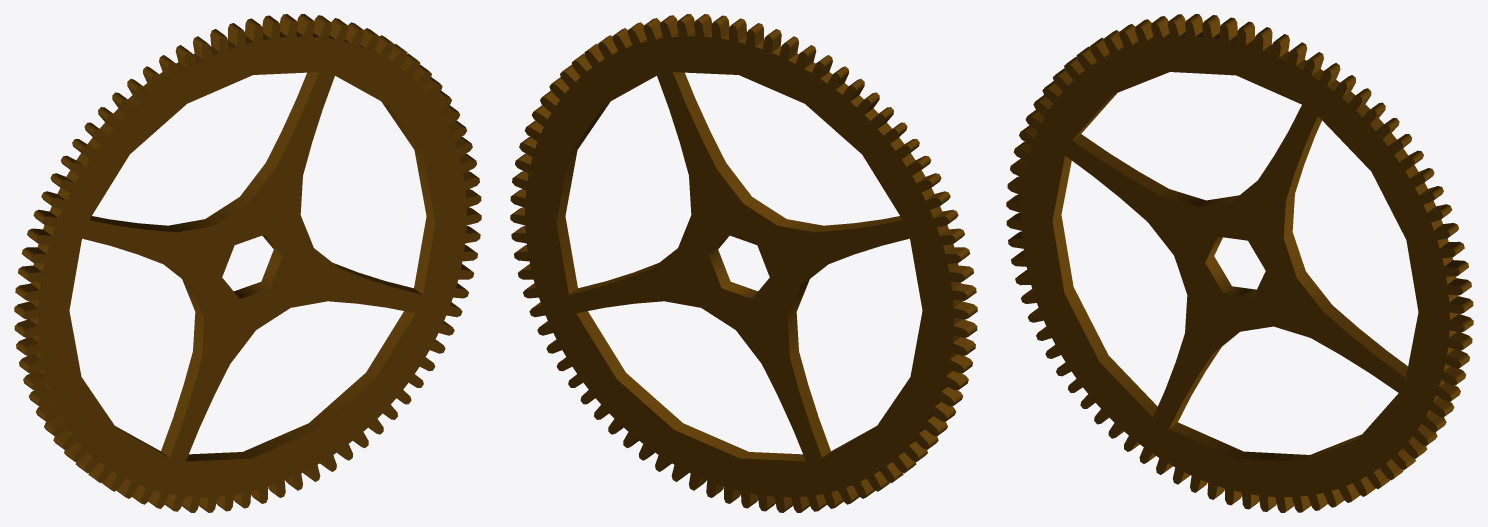
Rendered from Roue dente_Grande moyenne.obj.
3 renders of one model, left to right at view 1: azimuth 30°, elevation 25°; view 2: azimuth 150°, elevation 25°; view 3: azimuth 330°, elevation 25°, orthographic.
Visible parts, largest first — view 1: Face_2, Face_330, Face_334, Face_336, Face_335, Face_325, Face_339, Face_324; view 2: Face_1, Face_330, Face_334, Face_336, Face_335, Face_325, Face_339, Face_324; view 3: Face_2, Face_326, Face_330, Face_332, Face_331, Face_337, Face_339, Face_336, Face_333.
Boxes of the visible parts, x1=… form: Face_2: x1=23, y1=20, x2=481, y2=512; Face_330: x1=186, y1=311, x2=415, y2=461; Face_334: x1=381, y1=101, x2=435, y2=294; Face_336: x1=168, y1=163, x2=274, y2=232; Face_335: x1=266, y1=72, x2=318, y2=169; Face_325: x1=161, y1=351, x2=201, y2=457; Face_339: x1=234, y1=234, x2=282, y2=298; Face_324: x1=164, y1=264, x2=204, y2=357; Face_1: x1=510, y1=20, x2=968, y2=512; Face_330: x1=576, y1=311, x2=805, y2=461; Face_334: x1=556, y1=101, x2=610, y2=294; Face_336: x1=717, y1=163, x2=823, y2=232; Face_335: x1=673, y1=72, x2=725, y2=169; Face_325: x1=790, y1=351, x2=830, y2=457; Face_339: x1=709, y1=234, x2=757, y2=298; Face_324: x1=787, y1=264, x2=827, y2=357; Face_2: x1=1006, y1=20, x2=1464, y2=512; Face_326: x1=1052, y1=156, x2=1157, y2=417; Face_330: x1=1169, y1=422, x2=1361, y2=461; Face_332: x1=1283, y1=194, x2=1331, y2=311; Face_331: x1=1323, y1=305, x2=1407, y2=377; Face_337: x1=1072, y1=134, x2=1168, y2=195; Face_339: x1=1205, y1=236, x2=1256, y2=296; Face_336: x1=1160, y1=189, x2=1238, y2=206; Face_333: x1=1286, y1=116, x2=1321, y2=199.
Bounding box in the file's own units: 0.0526 × 0.0526 × 0.0018.
